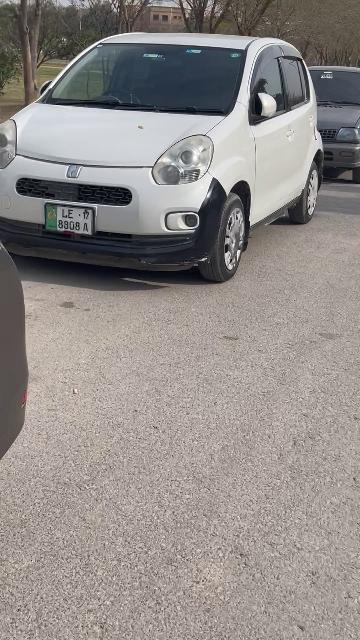plate: (44, 203, 94, 236)
